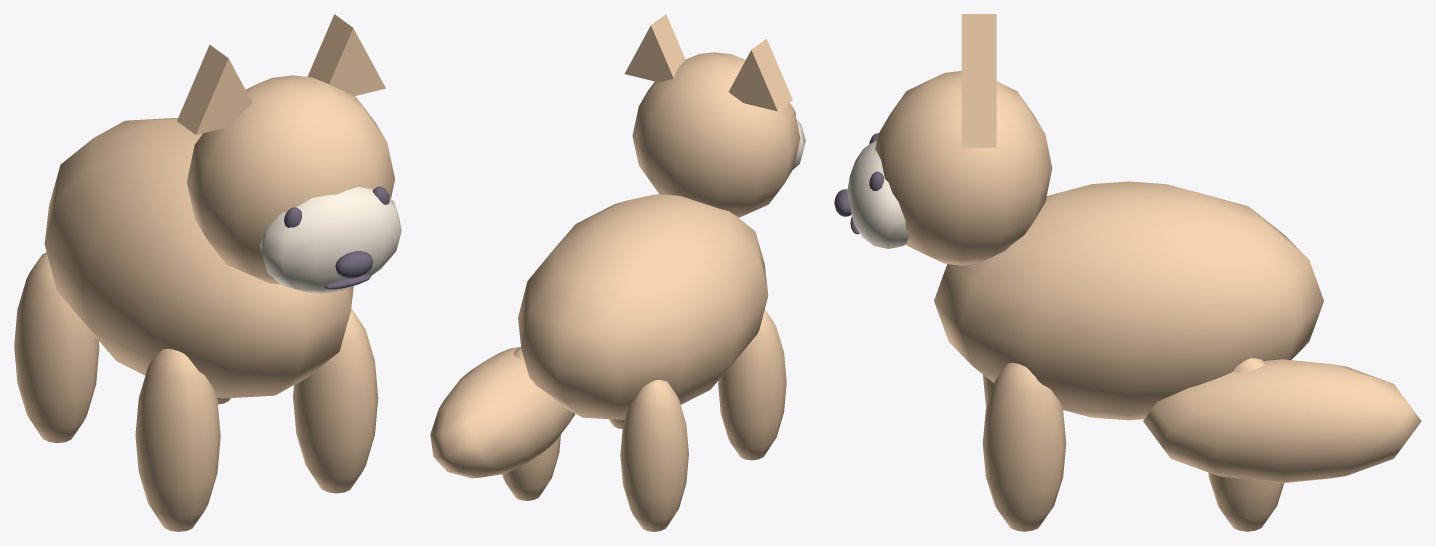
File: cat-hope.glb
3 renders of one model, left to right at view 1: azimuth 30°, elevation 25°; view 2: azimuth 150°, elevation 25°; view 3: azimuth 270°, elevation 25°, orthographic. The views are drawn at different scales.
Visible parts, largest first — view 1: cat hope offline illustration; view 2: cat hope offline illustration; view 3: cat hope offline illustration.
Part boxes in pixels (x1,y1,x2,y2): cat hope offline illustration: (14, 14, 401, 531); cat hope offline illustration: (430, 14, 805, 531); cat hope offline illustration: (834, 14, 1421, 531).
Size of the model in its own units: 0.3995 by 0.72 by 0.843.
